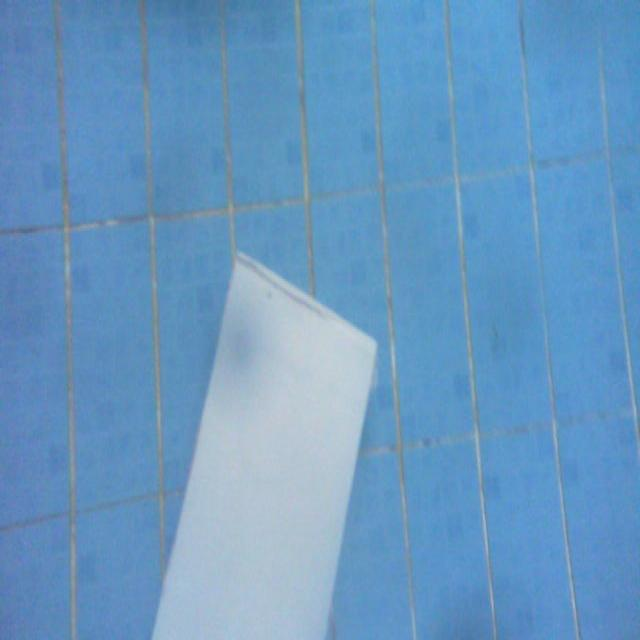Cuboid: (147, 246, 378, 638)
